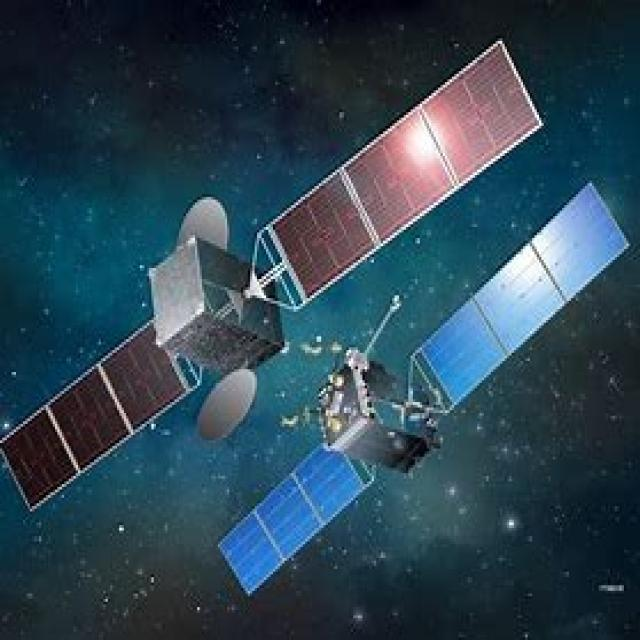satellite: (0, 41, 550, 502), (221, 158, 634, 640)
